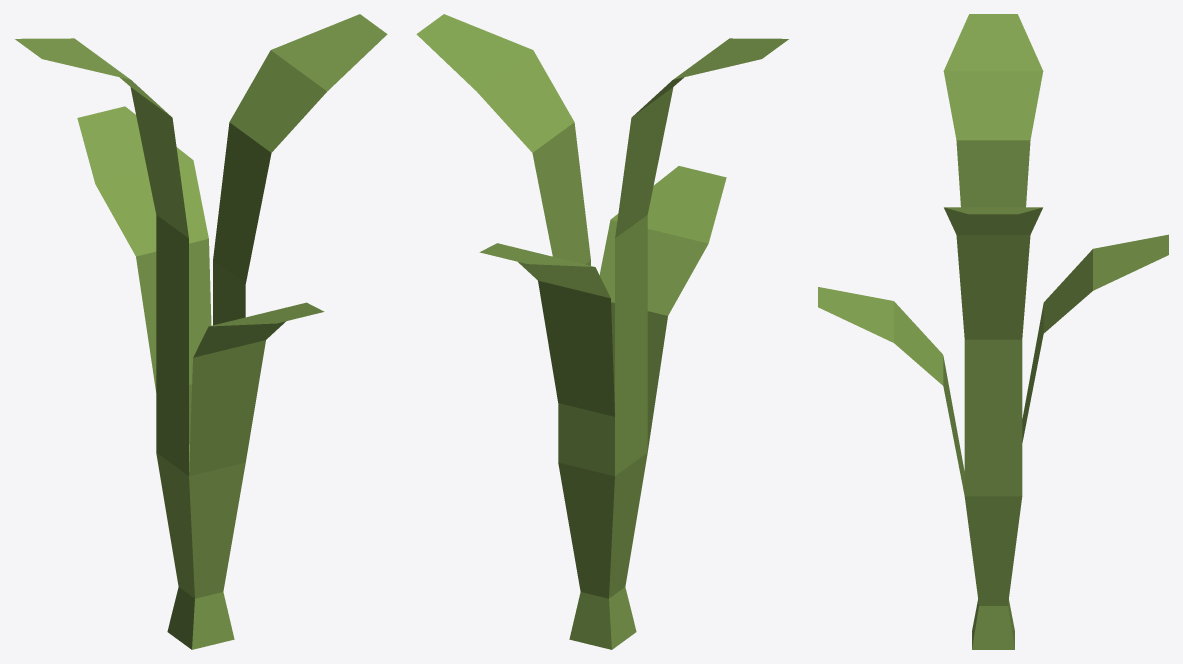
Rendered from crops_leafsStageB.glb.
3 views of the same model, side by side, from view 1: azimuth 30°, elevation 25°; view 2: azimuth 150°, elevation 25°; view 3: azimuth 270°, elevation 25° (orthographic). The views are drawn at different scales.
Parts seen in each view (by area): view 1: crops_leafsStageB; view 2: crops_leafsStageB; view 3: crops_leafsStageB.
Part boxes in pixels (x1,y1,x2,y2): crops_leafsStageB: [15, 14, 387, 649]; crops_leafsStageB: [416, 14, 788, 649]; crops_leafsStageB: [818, 14, 1168, 649].
Size of the model in its own units: 0.3894 by 0.6771 by 0.3894.
